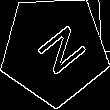N_SW: (23, 18, 85, 81)
